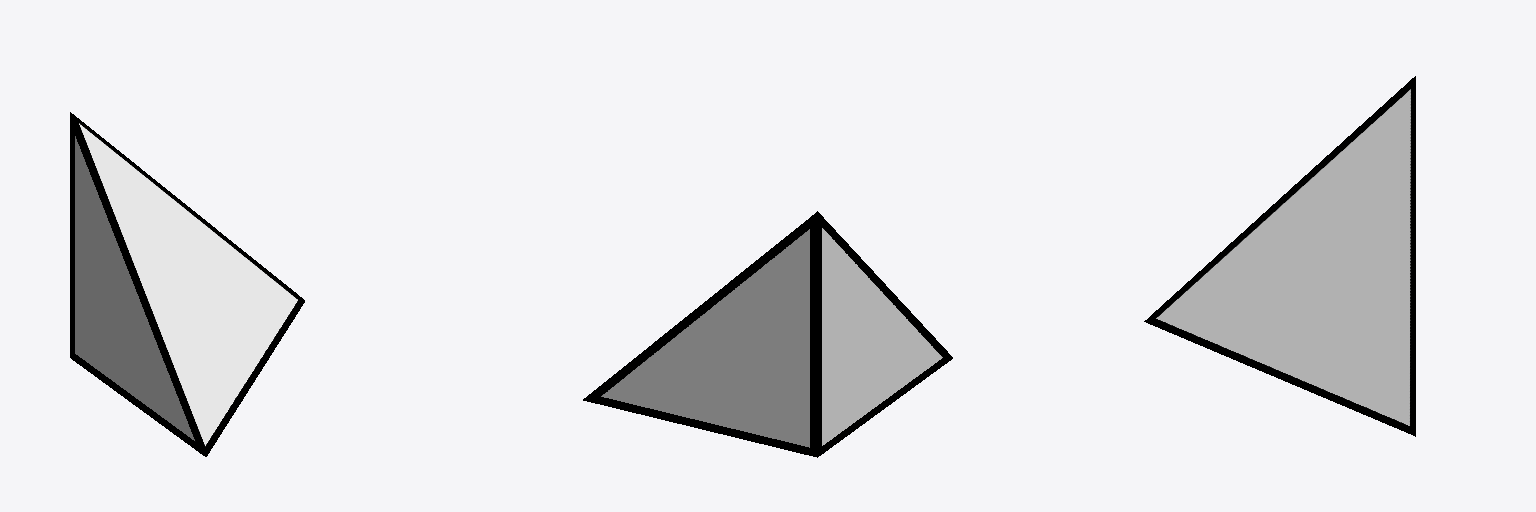
3 renders of one model, left to right at view 1: azimuth 30°, elevation 25°; view 2: azimuth 150°, elevation 25°; view 3: azimuth 270°, elevation 25°, orthographic.
Visible parts, largest first — view 1: Cube; view 2: Cube; view 3: Cube.
Part boxes in pixels (x1,y1,x2,y2): Cube: (70, 112, 304, 456); Cube: (583, 211, 952, 457); Cube: (1144, 76, 1415, 436).
Size of the model in its own units: 1 by 1 by 1.
Materials: 1 (1 with a texture image).